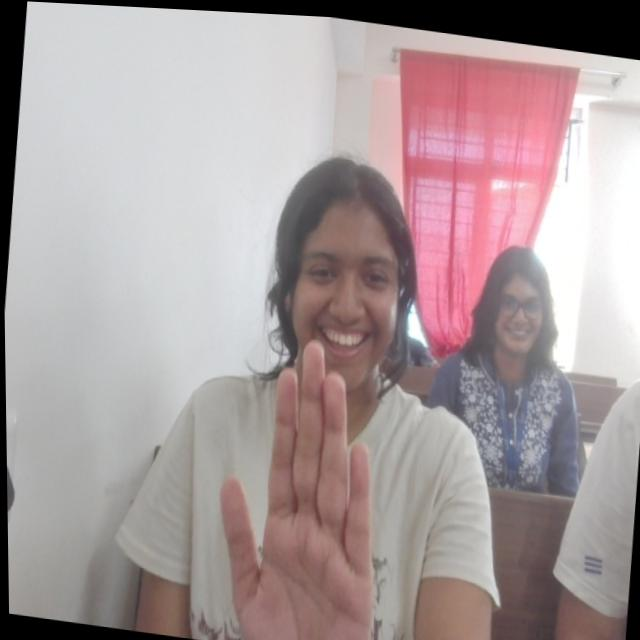hello: (199, 319, 400, 640)
